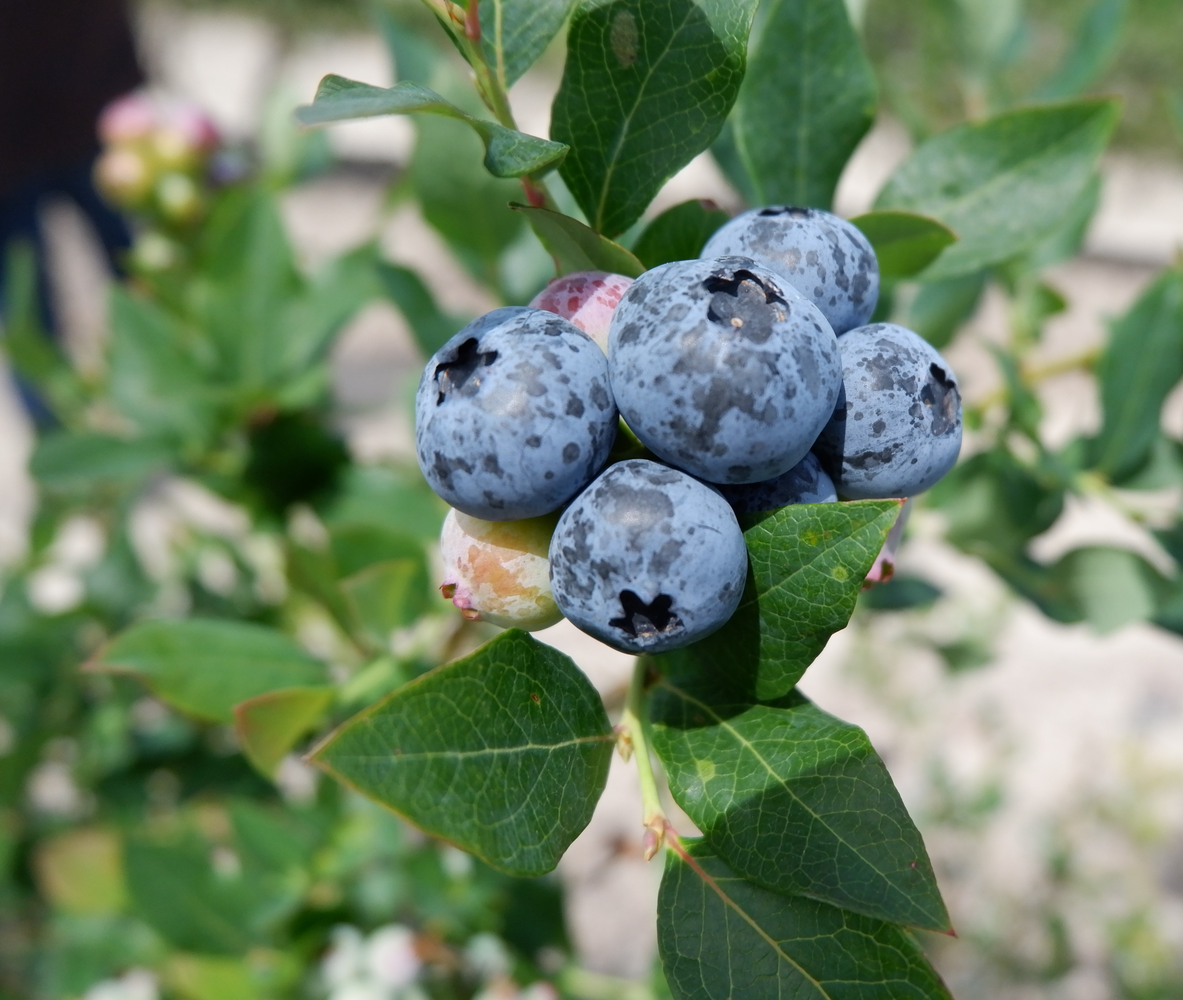Immature: (442, 512, 556, 629), (530, 270, 631, 357)
Mature: (611, 258, 837, 480), (414, 312, 613, 517), (553, 464, 745, 652), (822, 324, 962, 498), (709, 206, 878, 330), (724, 450, 839, 523)
